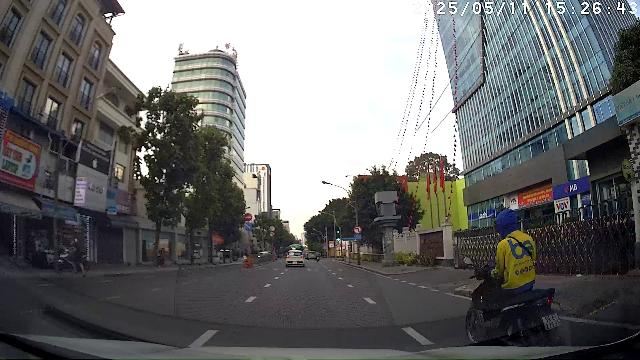123a-cam-re-trai: (353, 225, 362, 234)
